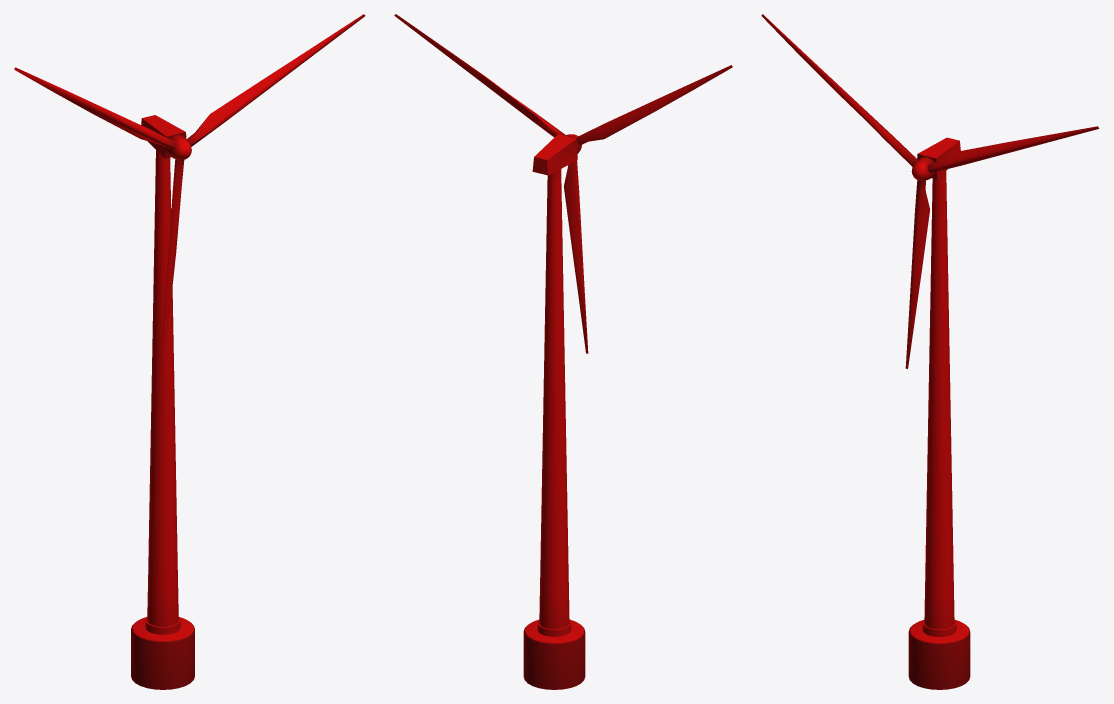
The model's file is buildings-farm-windturbine_v1.fbx.
3 views of the same model, side by side, from view 1: azimuth 30°, elevation 25°; view 2: azimuth 150°, elevation 25°; view 3: azimuth 330°, elevation 25° (orthographic). The views are drawn at different scales.
Visible parts, largest first — view 1: WindTurbine_base, WindTurbine_propeller; view 2: WindTurbine_base, WindTurbine_propeller; view 3: WindTurbine_base, WindTurbine_propeller.
Part boxes in pixels (<box>): WindTurbine_base: <box>131,115,194,689</box>; WindTurbine_propeller: <box>14,14,365,364</box>; WindTurbine_base: <box>523,134,585,689</box>; WindTurbine_propeller: <box>394,14,732,353</box>; WindTurbine_base: <box>908,137,970,689</box>; WindTurbine_propeller: <box>761,14,1099,368</box>.
Size of the model in its own units: 30.08 by 54.19 by 5.93.
